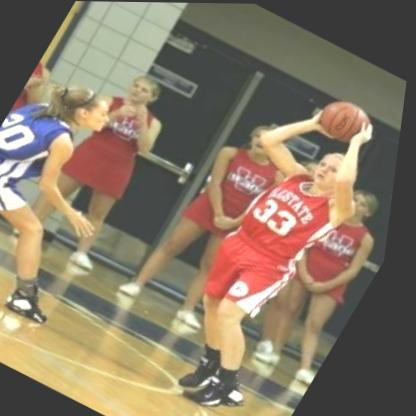basketball: (308, 89, 378, 153)
